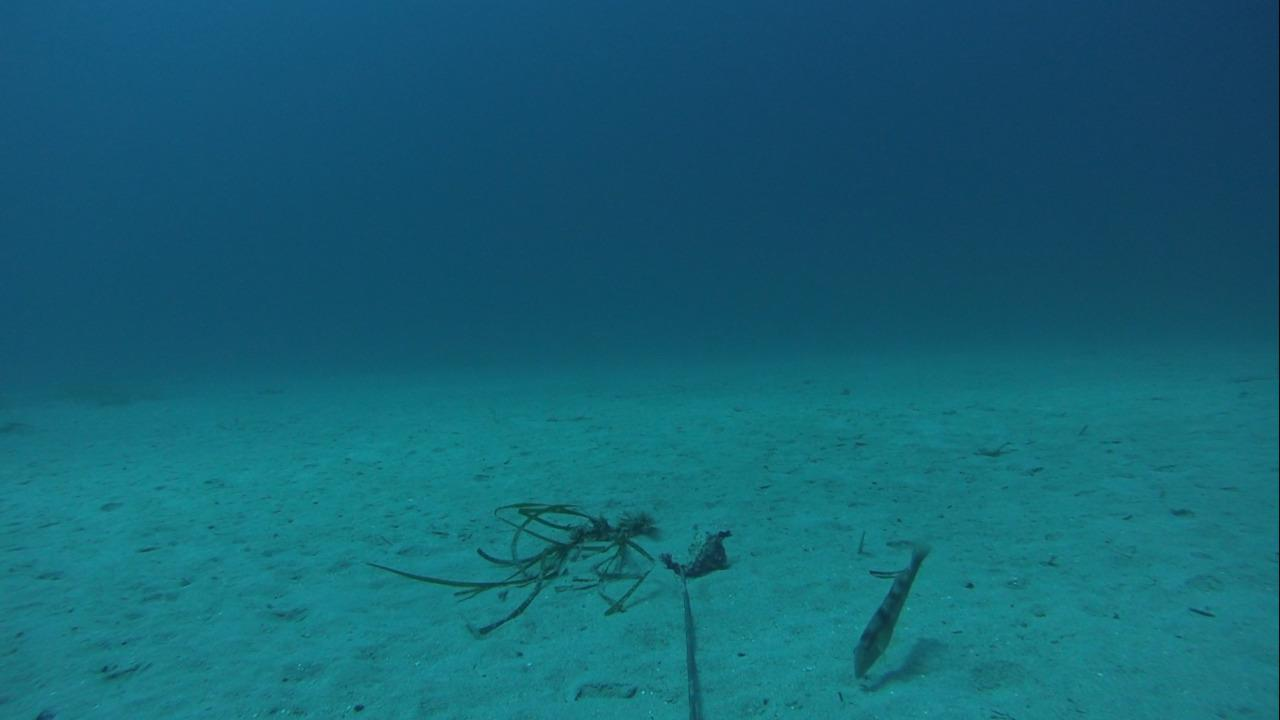raor: (850, 538, 932, 681)
